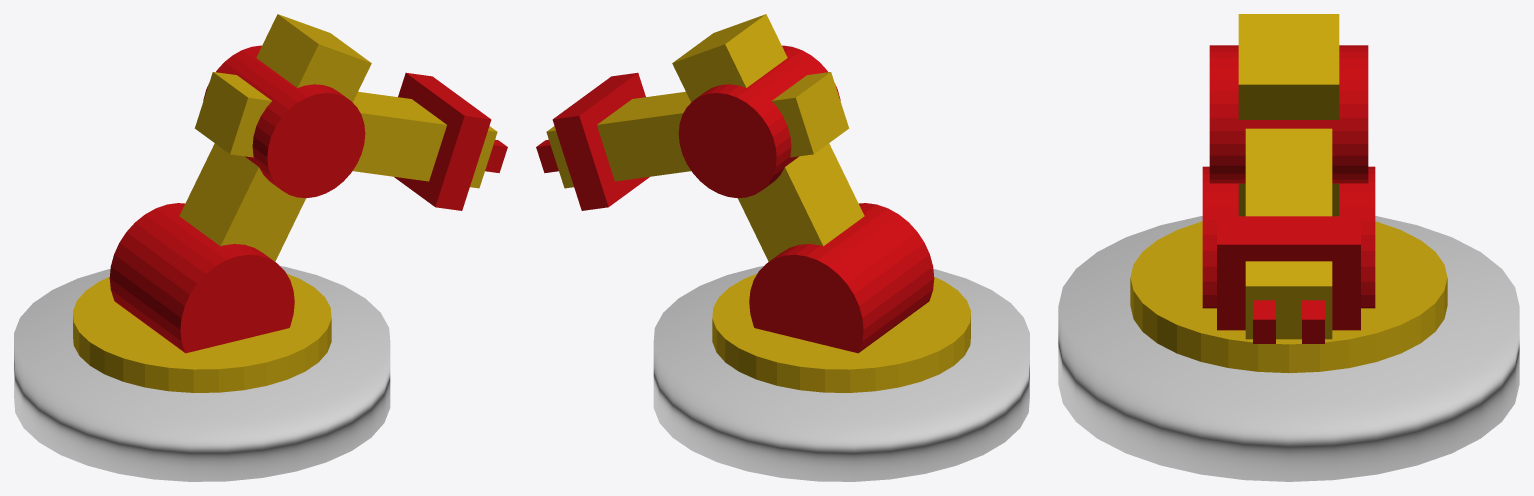
Rendered from robot_arm.obj.
3 views of the same model, side by side, from view 1: azimuth 30°, elevation 25°; view 2: azimuth 150°, elevation 25°; view 3: azimuth 270°, elevation 25° (orthographic). The views are drawn at different scales.
Visible parts, largest first — view 1: Base, Shoulder_joint, Turntable, Upper_arm, Elbow_joint, Forearm, Palm; view 2: Base, Shoulder_joint, Turntable, Upper_arm, Elbow_joint, Forearm, Palm; view 3: Base, Turntable, Forearm, Upper_arm, Palm, Elbow_joint, Shoulder_joint, Finger_L, Finger_R.
Boxes of the visible parts, left/top/right/bottom form: Base: left=14, top=266, right=390, bottom=481; Shoulder_joint: left=109, top=203, right=294, bottom=353; Turntable: left=73, top=273, right=331, bottom=392; Upper_arm: left=179, top=14, right=371, bottom=261; Elbow_joint: left=203, top=45, right=365, bottom=198; Forearm: left=194, top=72, right=497, bottom=188; Palm: left=394, top=72, right=491, bottom=210; Base: left=653, top=266, right=1029, bottom=481; Shoulder_joint: left=749, top=203, right=934, bottom=353; Turntable: left=712, top=273, right=970, bottom=392; Upper_arm: left=672, top=14, right=864, bottom=261; Elbow_joint: left=678, top=45, right=840, bottom=198; Forearm: left=546, top=72, right=849, bottom=188; Palm: left=552, top=72, right=649, bottom=210; Base: left=1058, top=216, right=1519, bottom=481; Turntable: left=1130, top=221, right=1447, bottom=372; Forearm: left=1245, top=128, right=1332, bottom=339; Upper_arm: left=1238, top=14, right=1339, bottom=216; Palm: left=1217, top=216, right=1360, bottom=330; Elbow_joint: left=1209, top=45, right=1368, bottom=183; Shoulder_joint: left=1202, top=166, right=1375, bottom=308; Finger_L: left=1302, top=300, right=1324, bottom=343; Finger_R: left=1253, top=300, right=1275, bottom=343.
Bounding box in the file's own units: 4.45 × 3.28 × 3.2.
